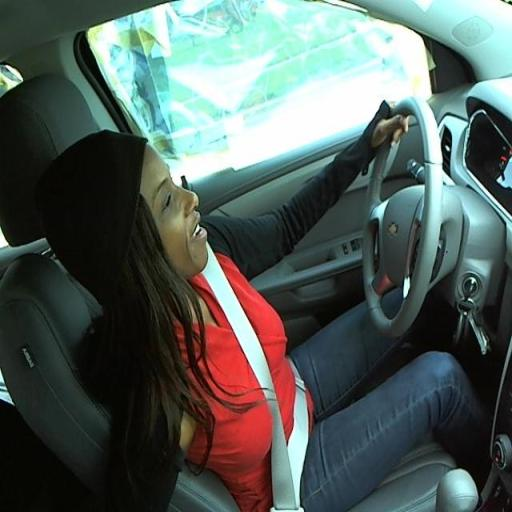turning: (43, 128, 448, 450)
